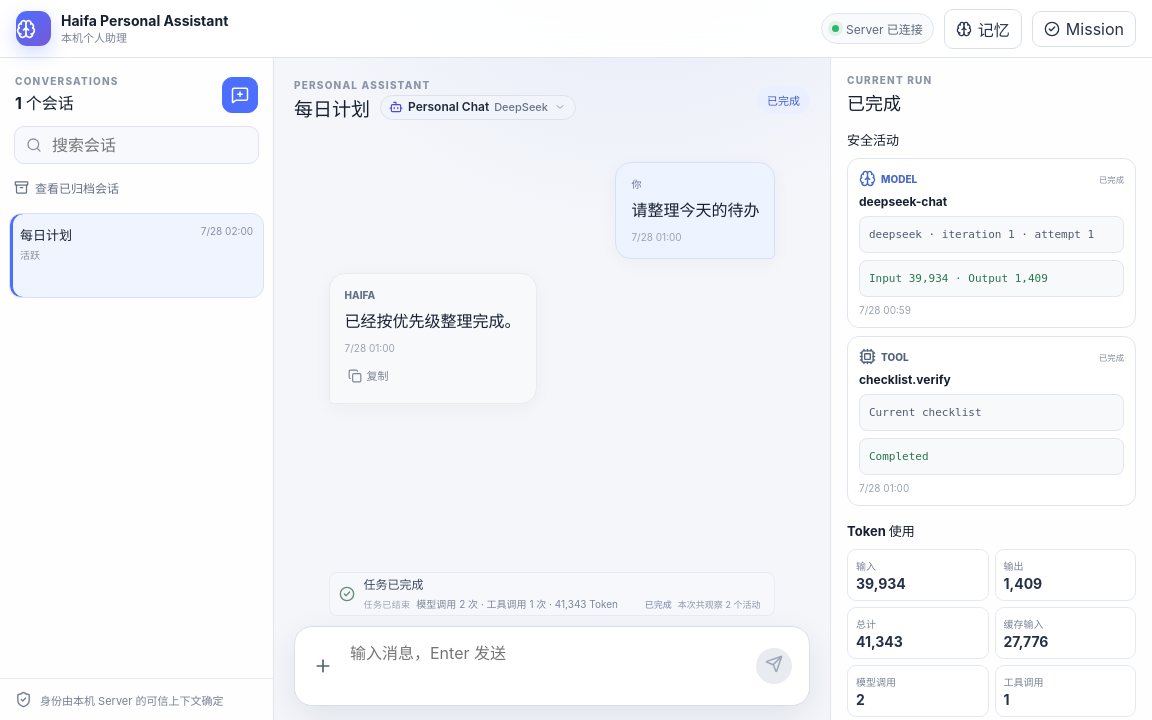
Test: Personal Assistant application › only routes an explicit deep-research request and leaves broad research wording in normal chat
This screenshot has width=1152, height=720.
Check: the text "每日计划" is shown, box [20,227,72,243]
Type "帮我调研一下主流数据库" into the text box named "给个人助理发送消息" at (548, 666), box [349,636,747,696]
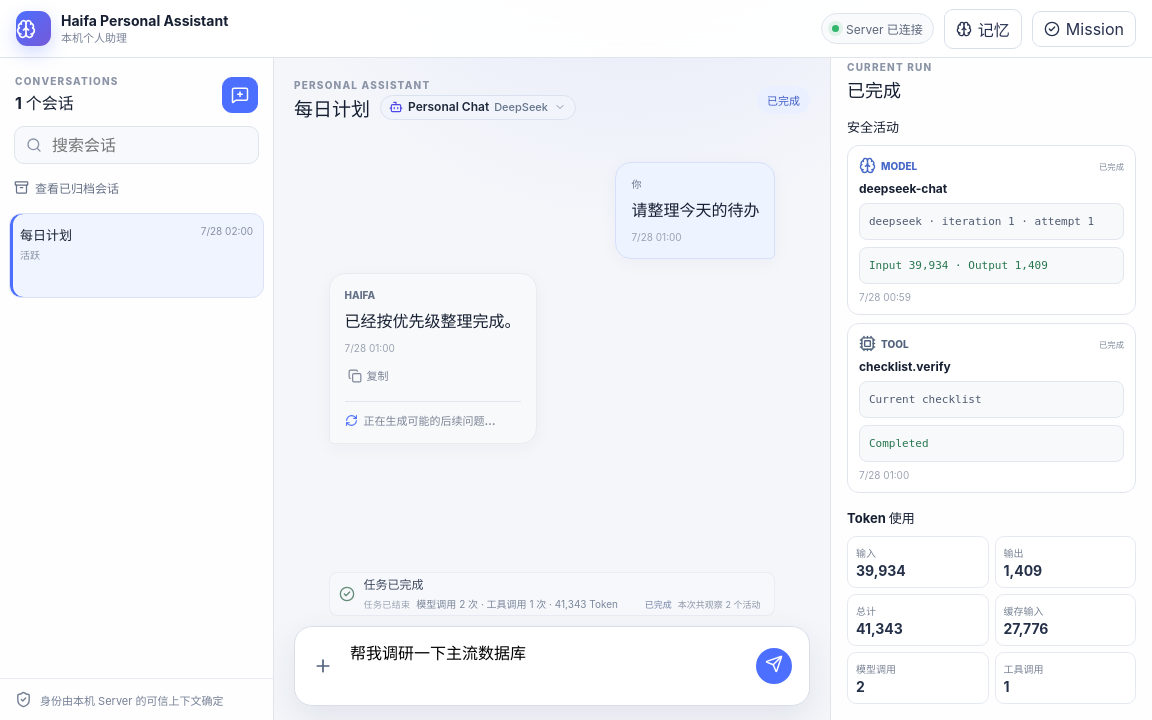
Submit the form named "给个人助理发送消息", box [294,626,810,706]
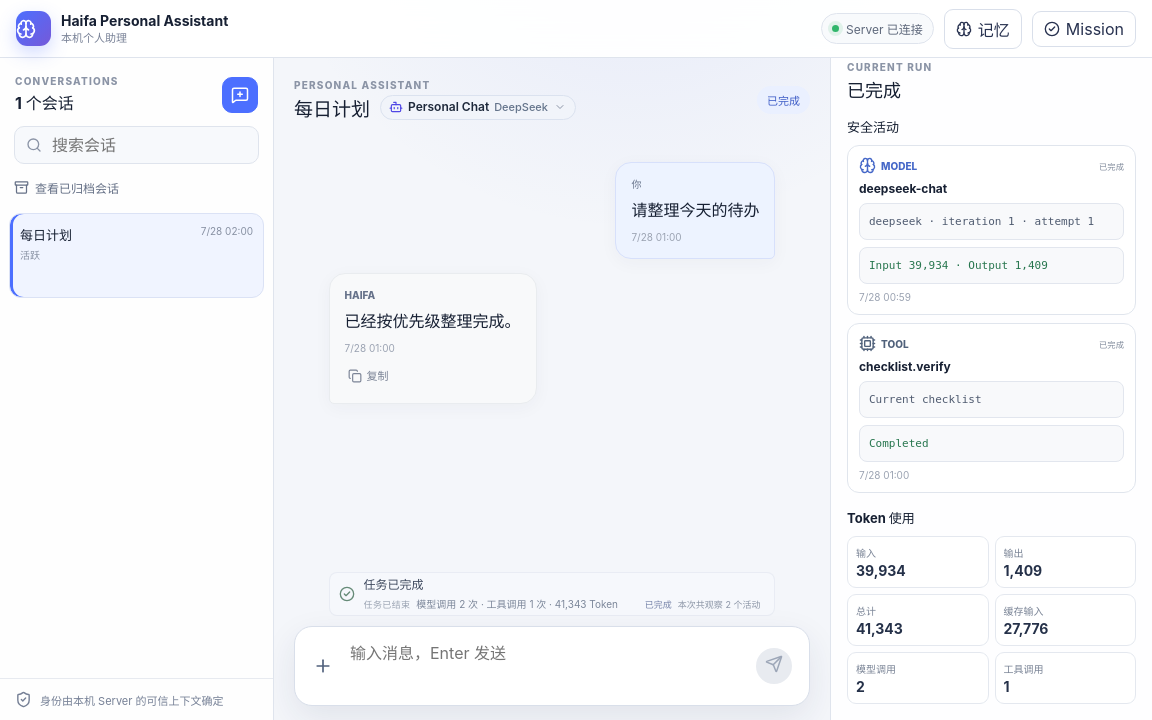
Type "请调用深度研究skill 研究数据库安全演进" into the text box named "给个人助理发送消息" at (548, 666), box [349,636,747,696]
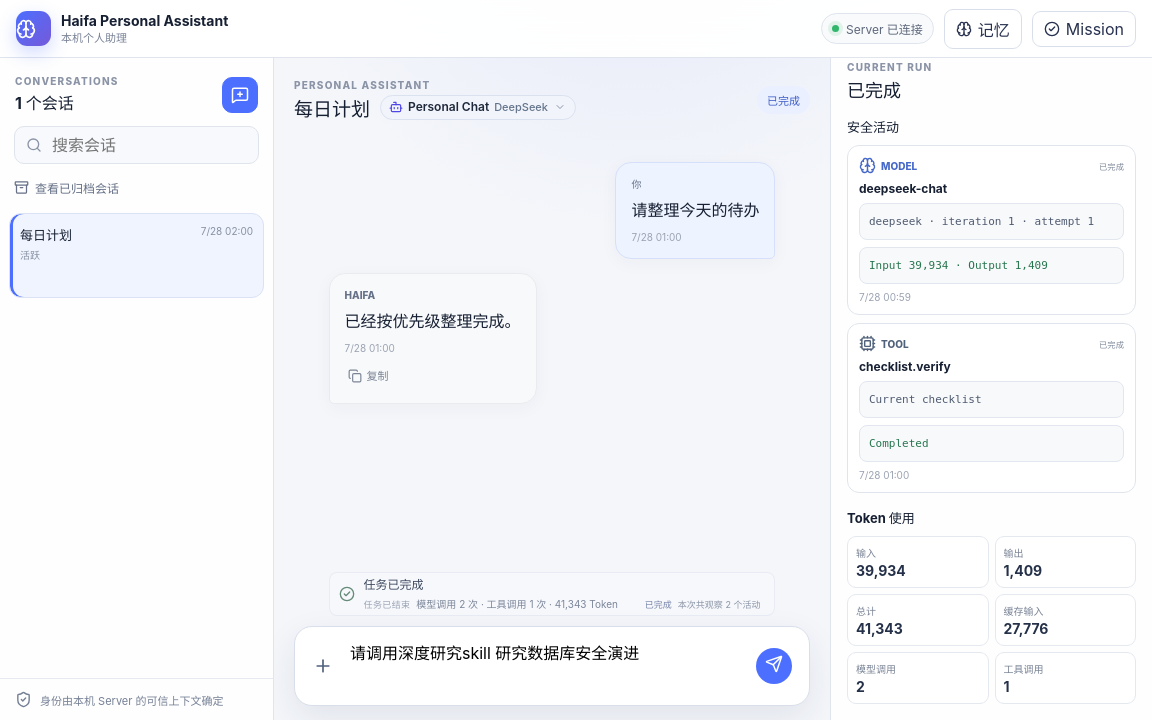
Submit the form named "给个人助理发送消息", box [294,626,810,706]
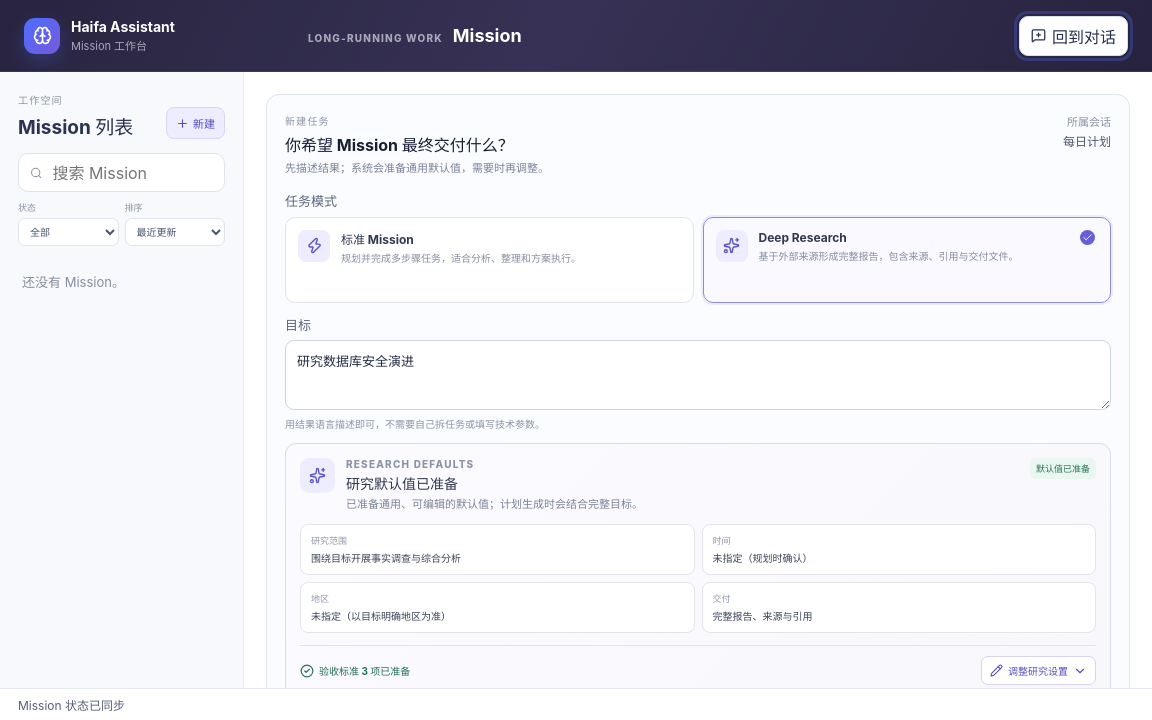
Check: the text box labelled "目标" holds "研究数据库安全演进", box [285,340,1111,410]
